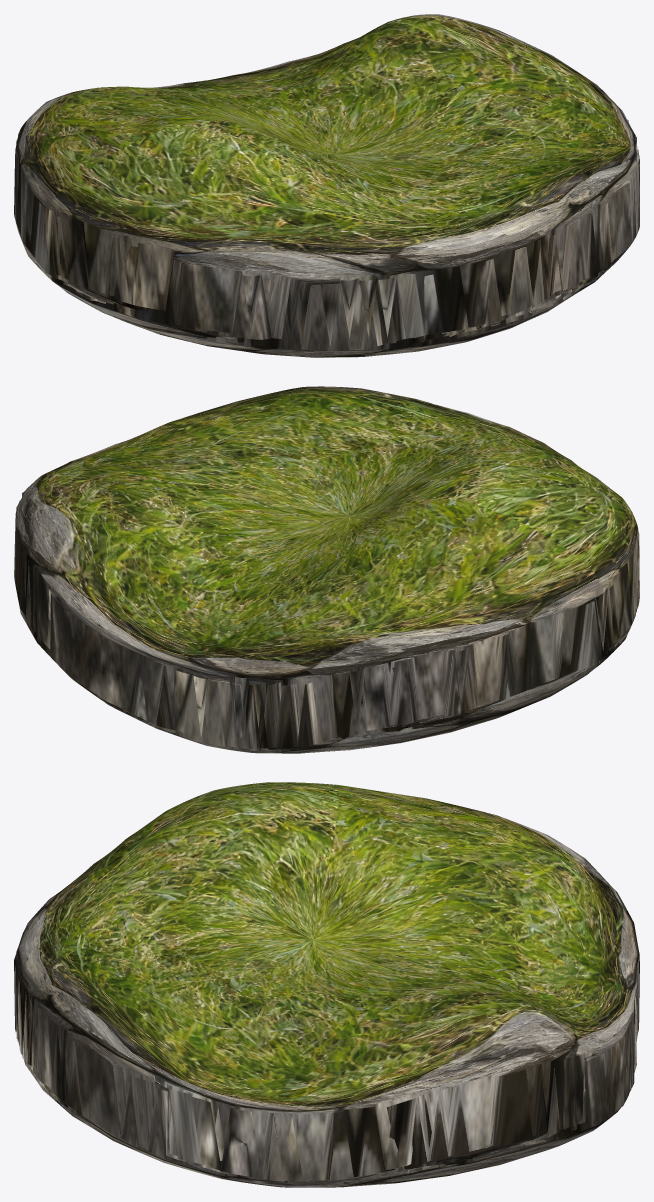
Rendered from island.fbx.
The picture shows the model from 3 angles, top to bottom: view 1: azimuth 30°, elevation 25°; view 2: azimuth 150°, elevation 25°; view 3: azimuth 270°, elevation 25°; orthographic projection. The views are drawn at different scales.
Visible parts, largest first — view 1: 球体; view 2: 球体; view 3: 球体.
Part boxes in pixels (x1,y1,x2,y2): 球体: [14, 14, 639, 357]; 球体: [14, 386, 639, 753]; 球体: [14, 782, 639, 1187].
Bounding box in the file's own units: 2195 × 759 × 1972.
1 material, 1 textured.
